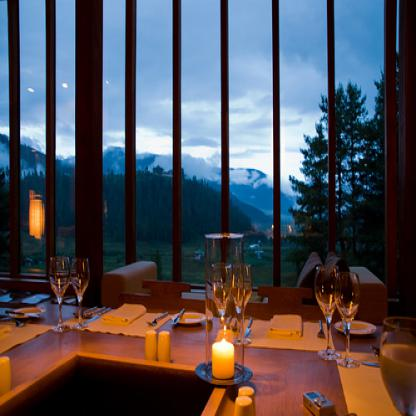chair: (118, 278, 216, 318), (240, 283, 326, 323)
diningtable: (0, 303, 415, 415)
